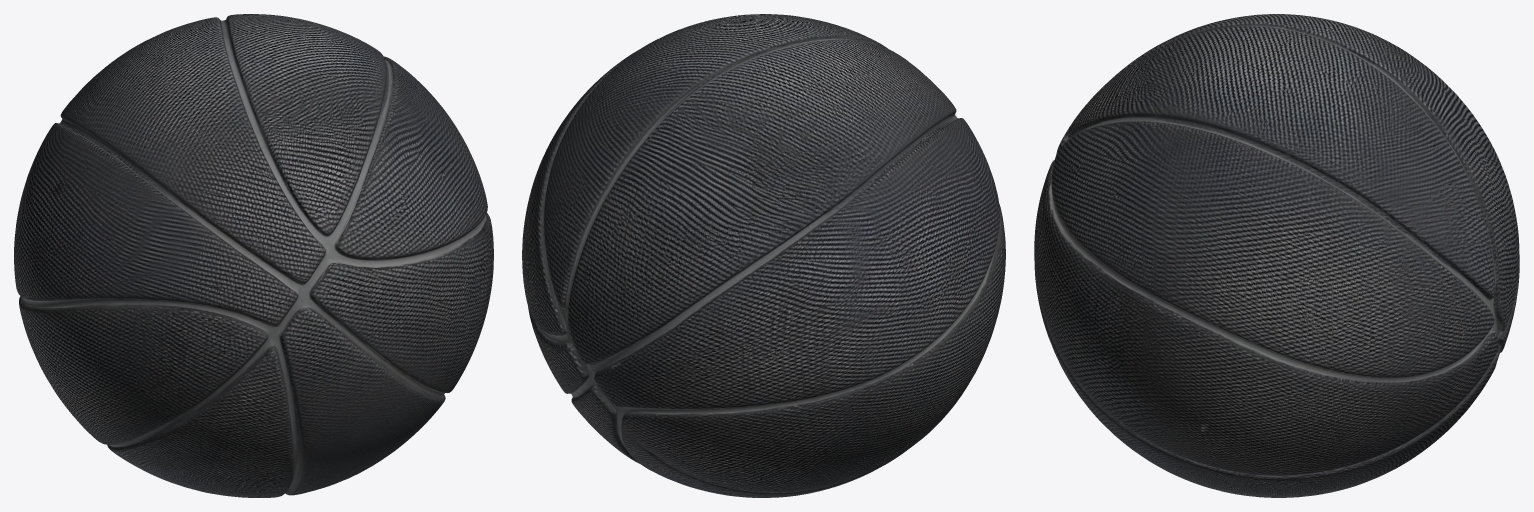
Rendered from basketball-nera-mobile.glb.
3 renders of one model, left to right at view 1: azimuth 30°, elevation 25°; view 2: azimuth 150°, elevation 25°; view 3: azimuth 270°, elevation 25°, orthographic.
Parts seen in each view (by area): view 1: node_0; view 2: node_0; view 3: node_0.
Part boxes in pixels (box(x1,y1,x2,y2)): node_0: box(14, 14, 493, 497); node_0: box(522, 14, 1005, 497); node_0: box(1034, 14, 1519, 497).
Size of the model in its own units: 1.18 by 1.19 by 1.19.
Materials: 1 (1 with a texture image).
